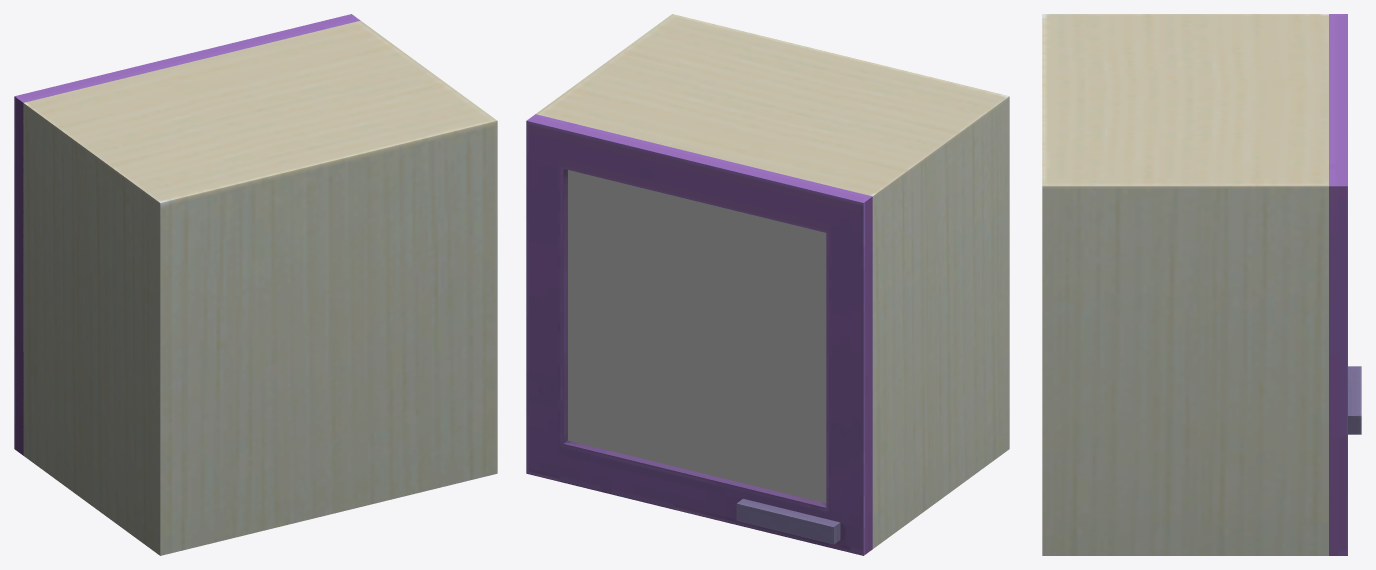
File: furni_0200519_03.FBX
3 views of the same model, side by side, from view 1: azimuth 30°, elevation 25°; view 2: azimuth 150°, elevation 25°; view 3: azimuth 270°, elevation 25° (orthographic). The views are drawn at different scales.
Parts seen in each view (by area): view 1: furni_0200519_03; view 2: furni_0200519_03; view 3: furni_0200519_03.
Part boxes in pixels (left/top/right/bottom): furni_0200519_03: left=14, top=14, right=497, bottom=555; furni_0200519_03: left=526, top=14, right=1009, bottom=555; furni_0200519_03: left=1042, top=14, right=1361, bottom=555.
Bounding box in the file's own units: 80 × 80 × 63.4.
